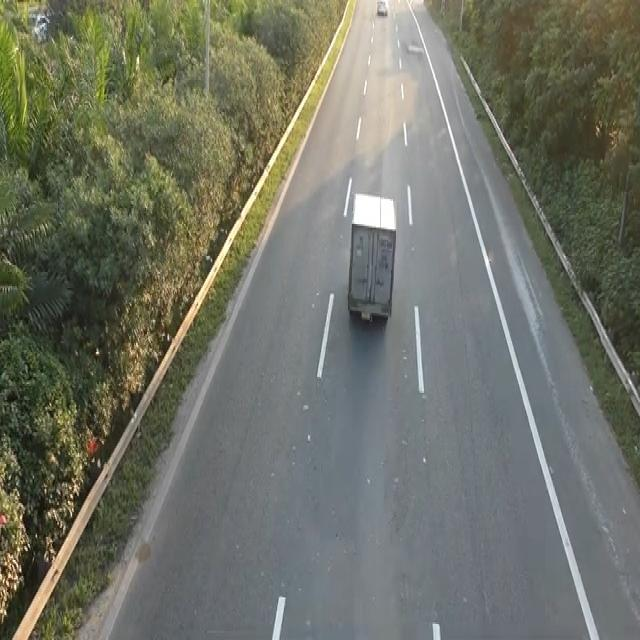minivan: (345, 189, 398, 327)
